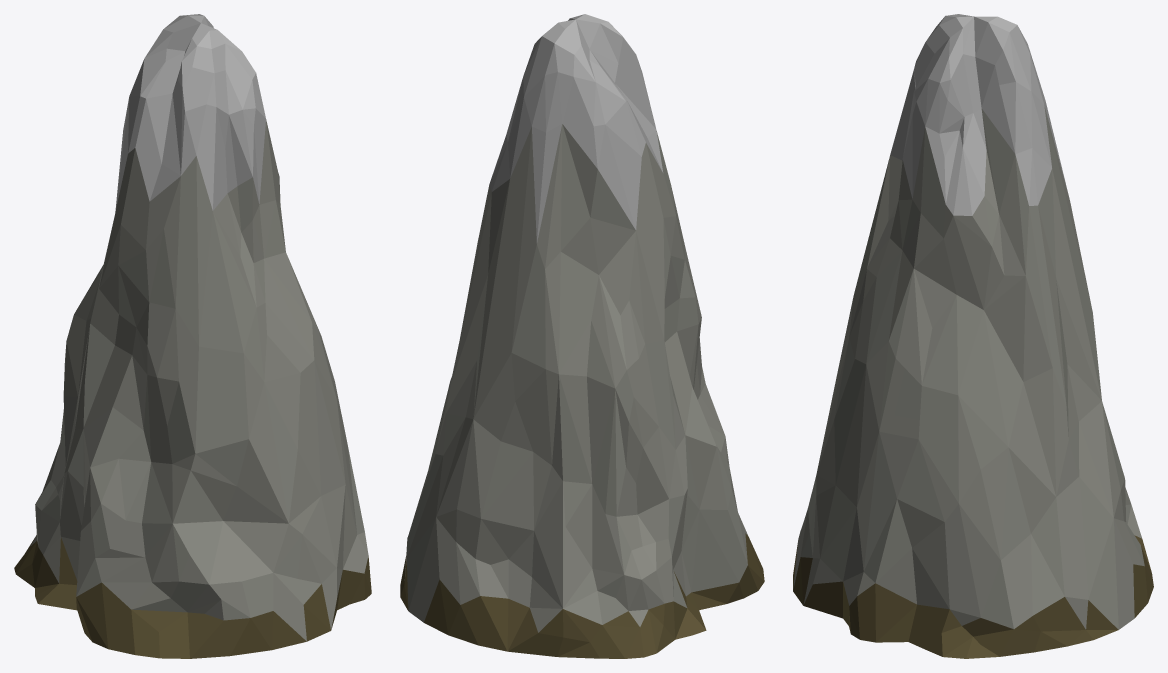
File: rock_spire_tall.glb
3 views of the same model, side by side, from view 1: azimuth 30°, elevation 25°; view 2: azimuth 150°, elevation 25°; view 3: azimuth 270°, elevation 25° (orthographic).
Parts seen in each view (by area): view 1: rock_spire_tall; view 2: rock_spire_tall; view 3: rock_spire_tall.
Part boxes in pixels (box(x1,y1,x2,y2)): rock_spire_tall: box(14, 14, 371, 658); rock_spire_tall: box(400, 14, 764, 658); rock_spire_tall: box(793, 14, 1153, 658).
Size of the model in its own units: 5.08 by 9 by 5.2.
